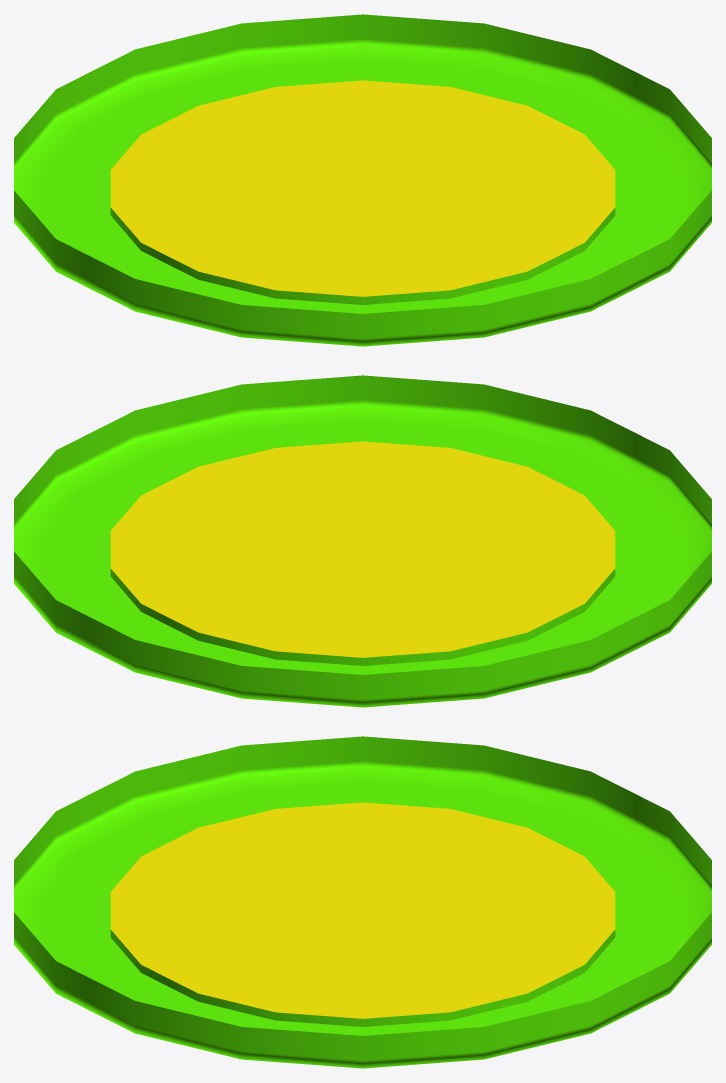
File: CeilingSpotlight.fbx
The picture shows the model from 3 angles, top to bottom: view 1: azimuth 30°, elevation 25°; view 2: azimuth 150°, elevation 25°; view 3: azimuth 270°, elevation 25°; orthographic projection.
Parts seen in each view (by area): view 1: Spotlights.007; view 2: Spotlights.007; view 3: Spotlights.007.
Boxes of the visible parts, x1,y1,x2,y2 form: Spotlights.007: [14, 14, 711, 346]; Spotlights.007: [14, 375, 711, 707]; Spotlights.007: [14, 736, 711, 1068].
Bounding box in the file's own units: 12.3 × 0.6246 × 12.11.
